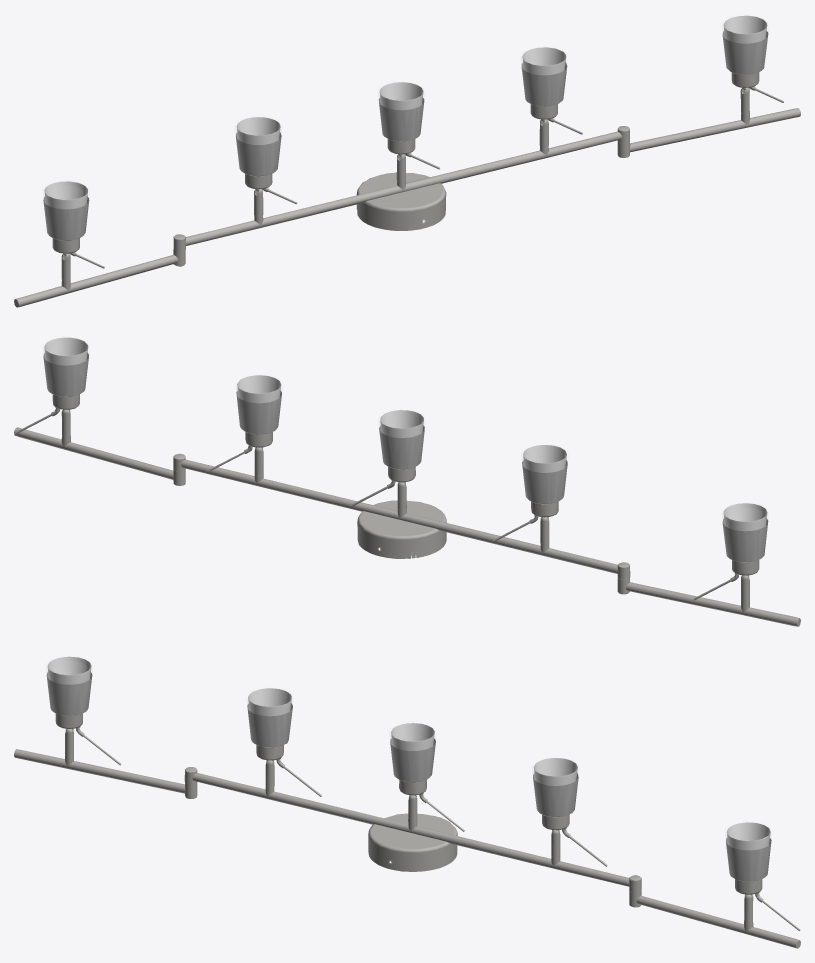
Rendered from tidig_lampa_sufitowa_5_reflektorow_90262653.glb.
The picture shows the model from 3 angles, top to bottom: view 1: azimuth 30°, elevation 25°; view 2: azimuth 150°, elevation 25°; view 3: azimuth 330°, elevation 25°; orthographic projection.
Parts seen in each view (by area): view 1: tidig_lampa_sufitowa_5_reflektorow_90262653; view 2: tidig_lampa_sufitowa_5_reflektorow_90262653; view 3: tidig_lampa_sufitowa_5_reflektorow_90262653.
Boxes of the visible parts, bbox=[...] form: tidig_lampa_sufitowa_5_reflektorow_90262653: bbox=[14, 15, 800, 307]; tidig_lampa_sufitowa_5_reflektorow_90262653: bbox=[14, 337, 800, 626]; tidig_lampa_sufitowa_5_reflektorow_90262653: bbox=[14, 656, 800, 948].
Size of the model in its own units: 1.32 by 0.1967 by 0.1309.
Materials: 2 (2 with a texture image).
